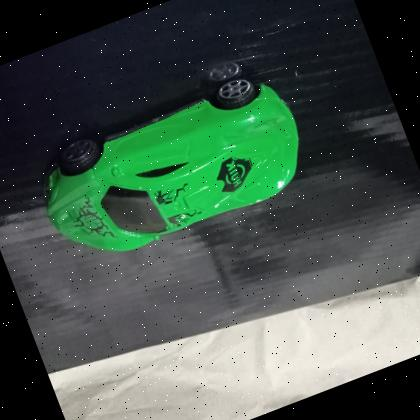Car: (19, 56, 324, 284)
